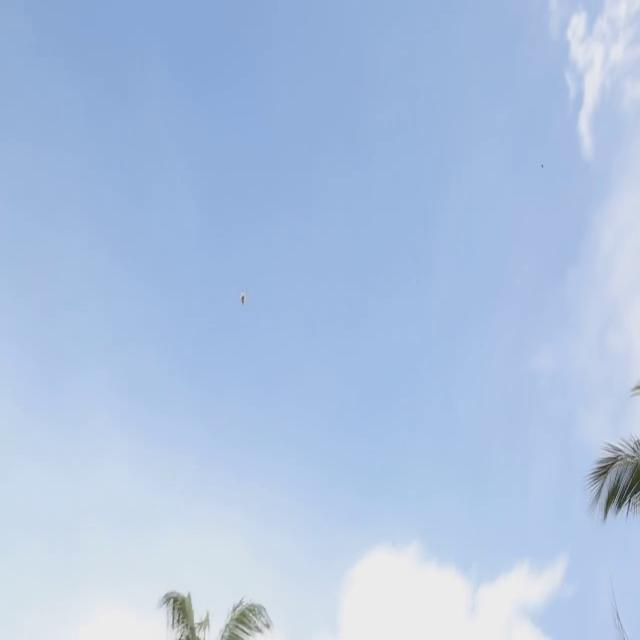drone: (236, 289, 249, 311)
